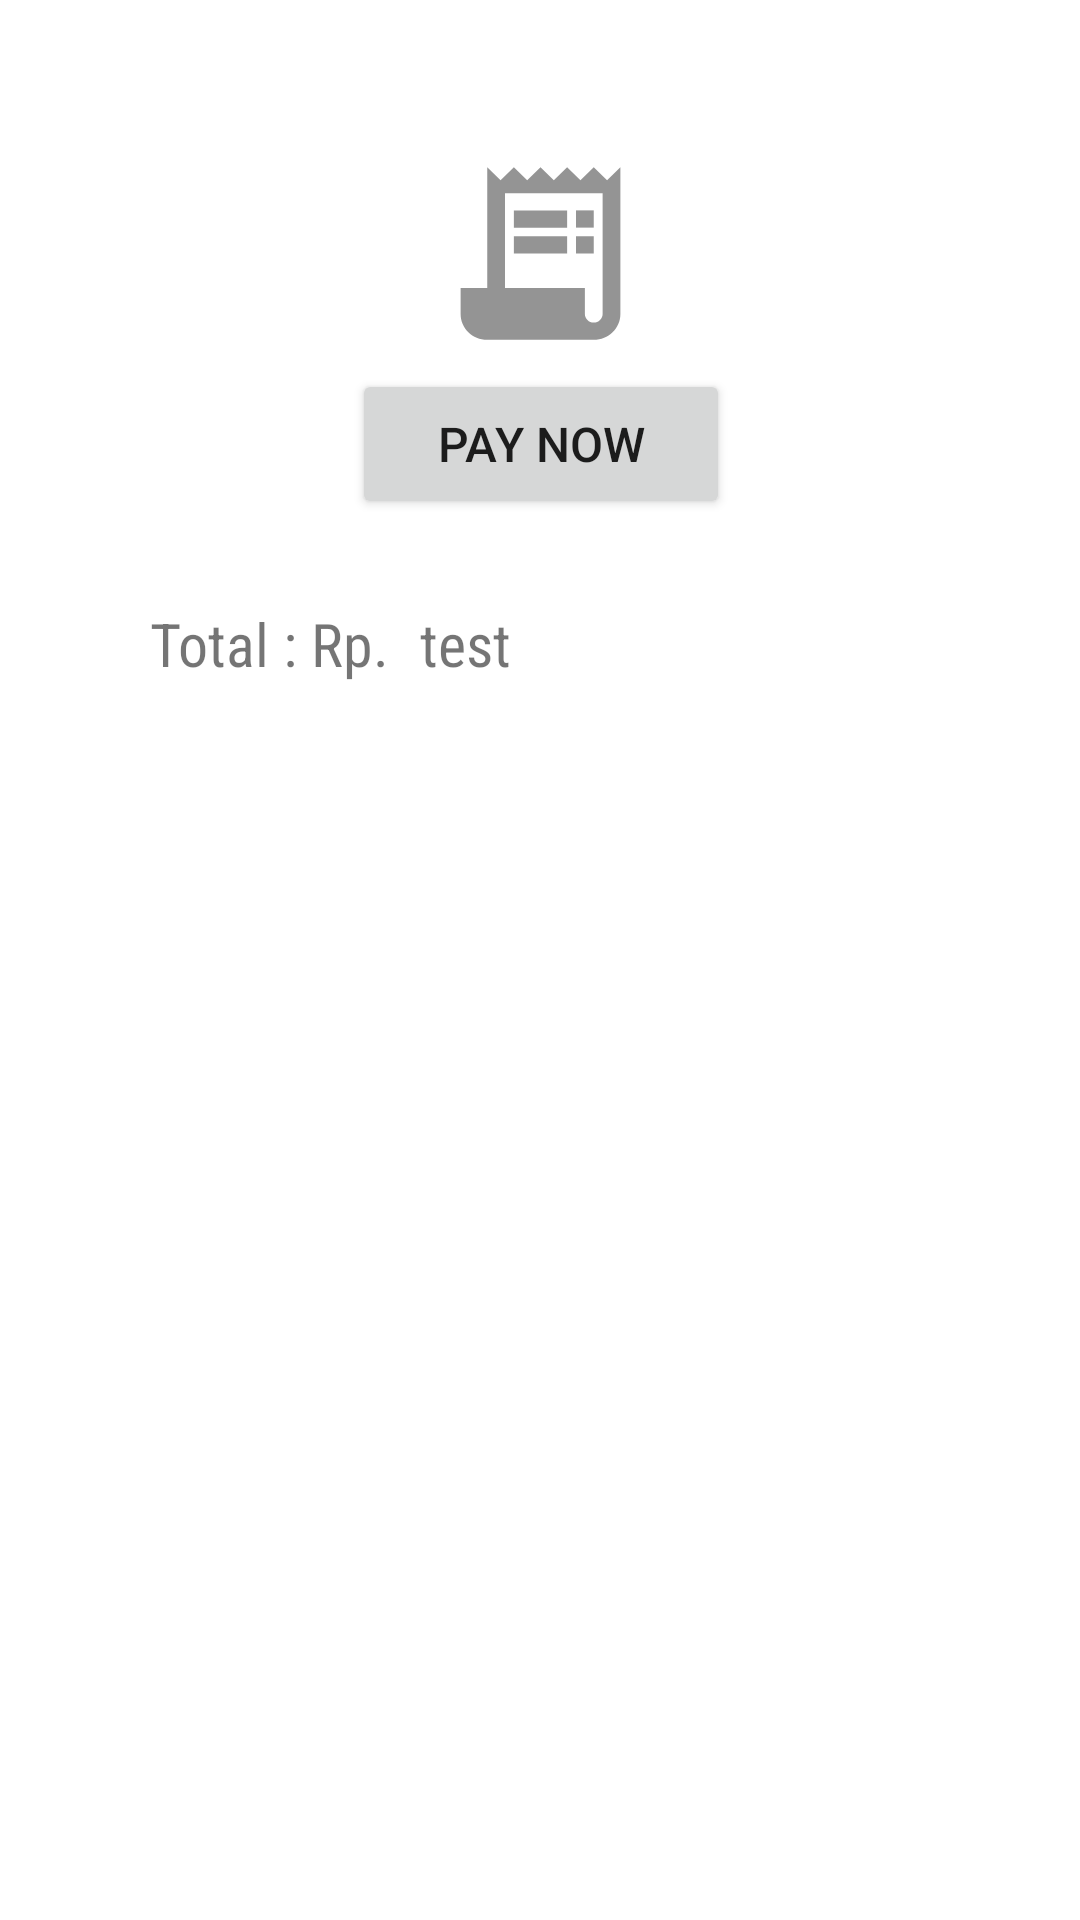

Screen size 1080x1920. Icon name, then its center in pixels as [x,y]:
receipt long: [540,253]
